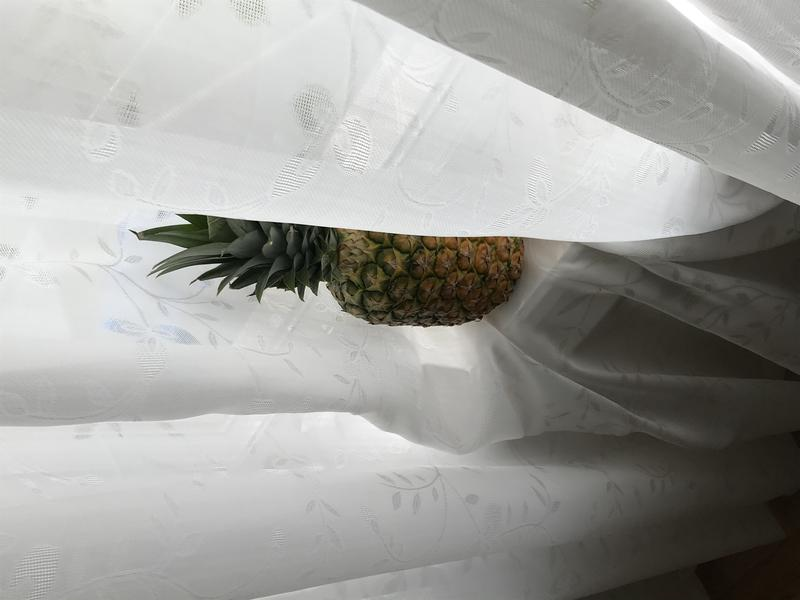pineapple: (121, 182, 537, 335)
